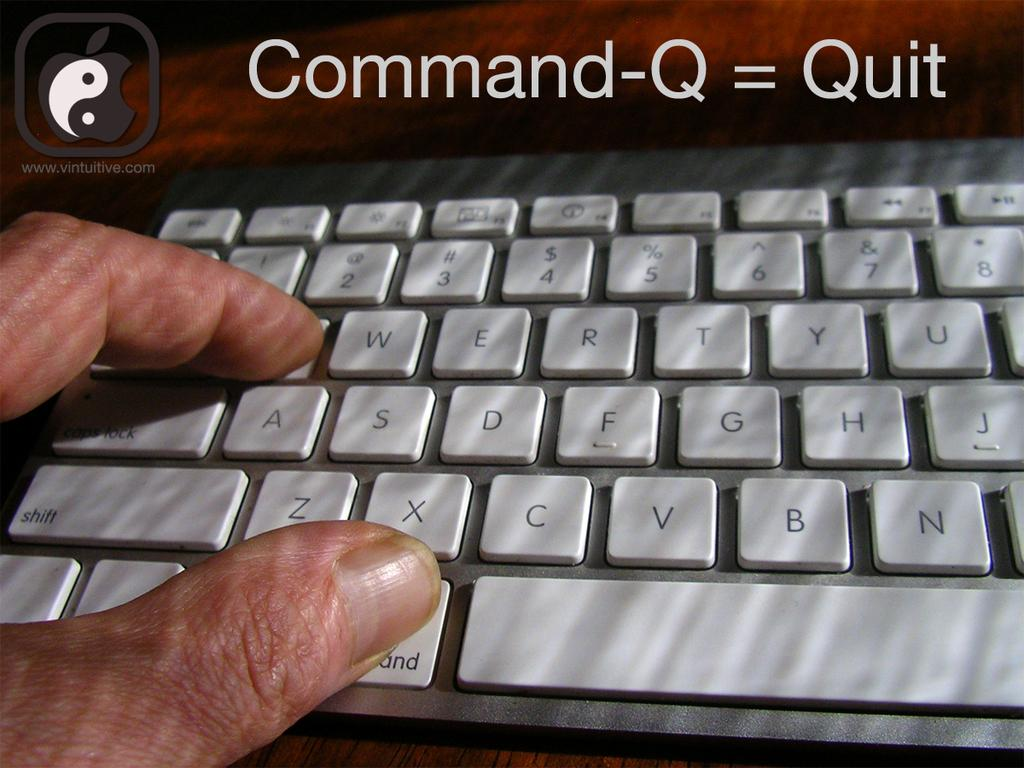Computer-keyboard: (0, 137, 1023, 753)
